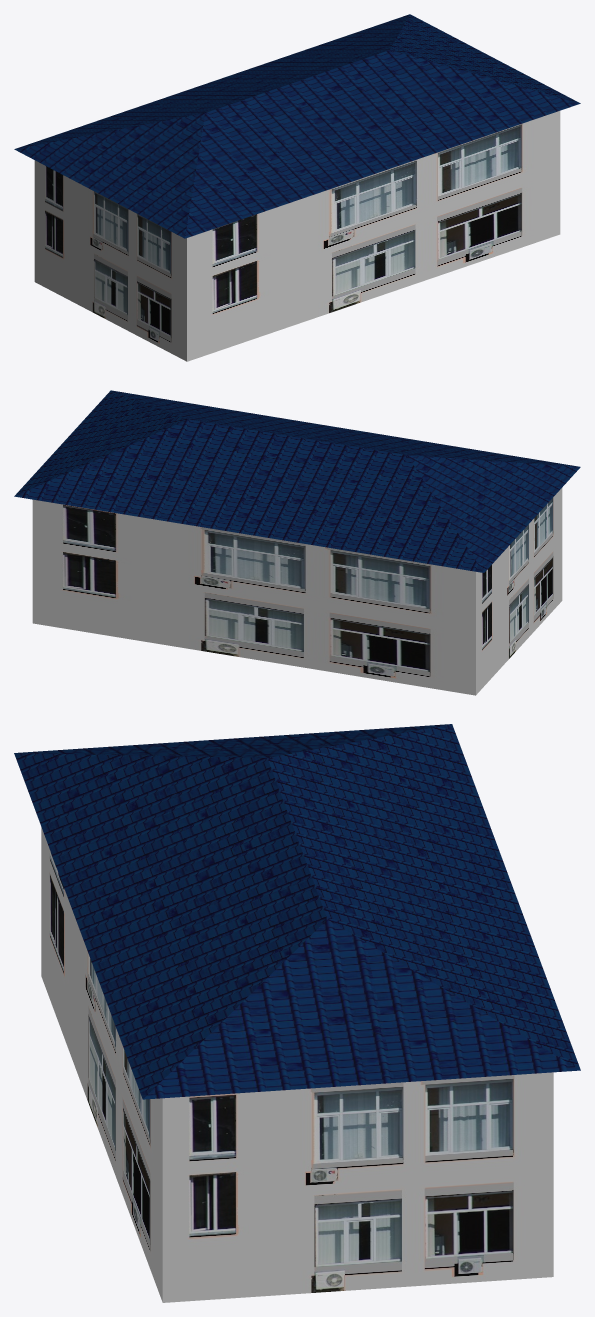
3 views of the same model, one above another, from view 1: azimuth 30°, elevation 25°; view 2: azimuth 150°, elevation 25°; view 3: azimuth 270°, elevation 25° (orthographic). The views are drawn at different scales.
Visible parts, largest first — view 1: CityEngineMaterial_9_m, CityEngineMaterial_6_m; view 2: CityEngineMaterial_9_m, CityEngineMaterial_6_m; view 3: CityEngineMaterial_6_m, CityEngineMaterial_9_m.
Boxes of the visible parts, bbox=[...] form: CityEngineMaterial_9_m: bbox=[34, 111, 560, 361]; CityEngineMaterial_6_m: bbox=[14, 14, 580, 238]; CityEngineMaterial_9_m: bbox=[32, 488, 562, 695]; CityEngineMaterial_6_m: bbox=[14, 390, 580, 572]; CityEngineMaterial_6_m: bbox=[14, 724, 580, 1099]; CityEngineMaterial_9_m: bbox=[41, 827, 553, 1302].
Size of the model in its own units: 34.83 by 12.46 by 22.22.
